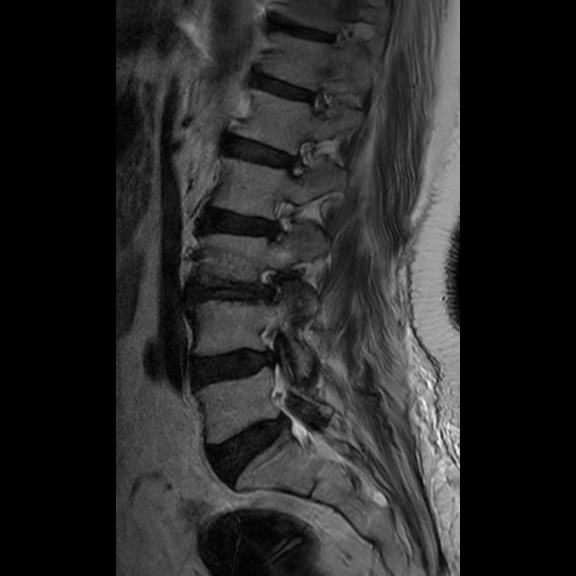RFS0: (260, 191, 306, 251), (276, 129, 321, 185)
RFS3: (247, 259, 291, 314)
